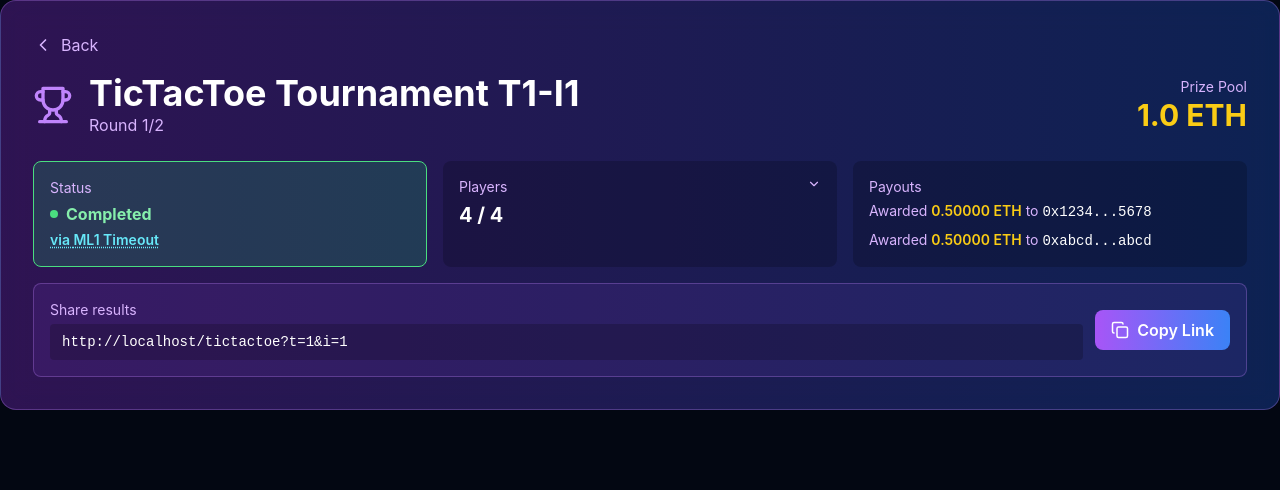
Scenario: TournamentHeader › shows completed v2 cards and expands enrolled players on demand
Check: the element with class "grid-cols-2" is shown, box [33,161,1247,267]
Check: the text "Payouts" is shown, box [869,178,922,195]
Step 1. Click the button named "Expand players" → x=814, y=184, box [807,177,821,191]
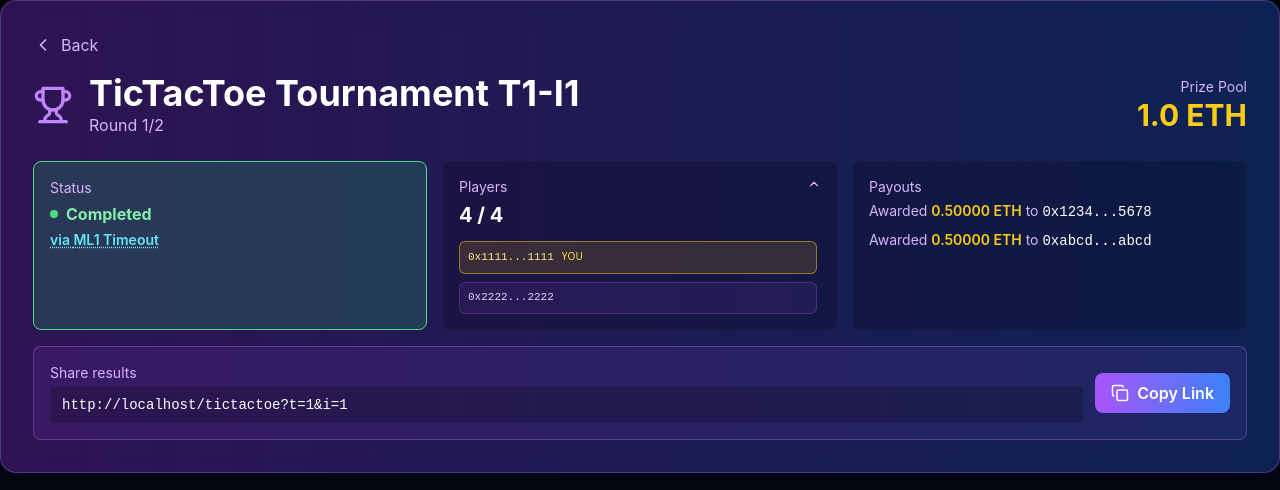
Check: the text "0x1111...1111" is shown, box [468,251,554,263]
Check: the text "0x2222...2222" is shown, box [468,291,554,303]
